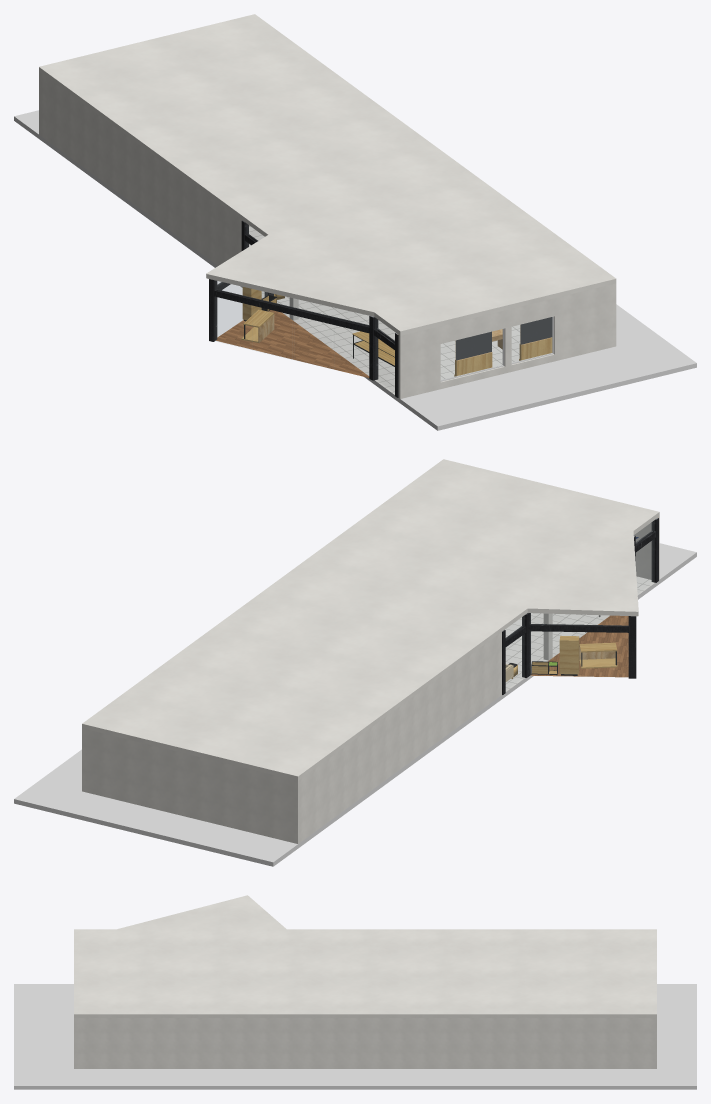
Rendered from SM_Combined.fbx.
3 views of the same model, one above another, from view 1: azimuth 30°, elevation 25°; view 2: azimuth 150°, elevation 25°; view 3: azimuth 270°, elevation 25° (orthographic). The views are drawn at different scales.
Visible parts, largest first — view 1: SM_Combined; view 2: SM_Combined; view 3: SM_Combined.
Boxes of the visible parts, <box> form: SM_Combined: <box>14,14,696,430</box>; SM_Combined: <box>14,459,696,866</box>; SM_Combined: <box>14,895,696,1089</box>.
Size of the model in its own units: 1603 by 320 by 3404.
